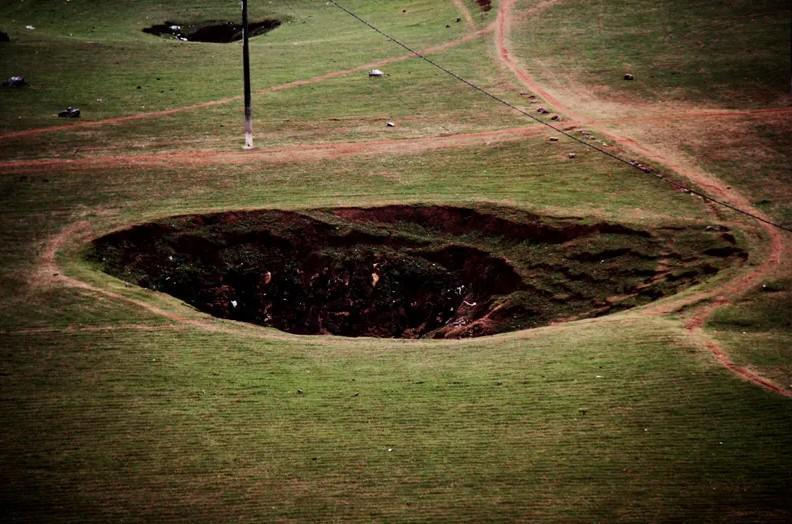pothole: (76, 201, 753, 342), (141, 16, 286, 44)
